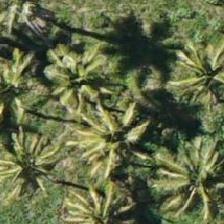coconut_tree: (59, 88, 149, 178), (21, 27, 111, 117), (157, 15, 223, 105), (0, 112, 66, 202), (156, 139, 223, 223), (43, 170, 133, 223)
